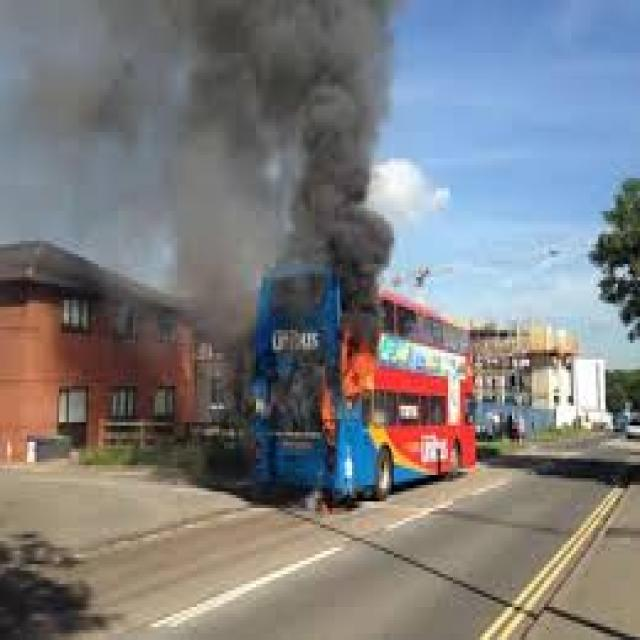smoke: (48, 6, 392, 234)
